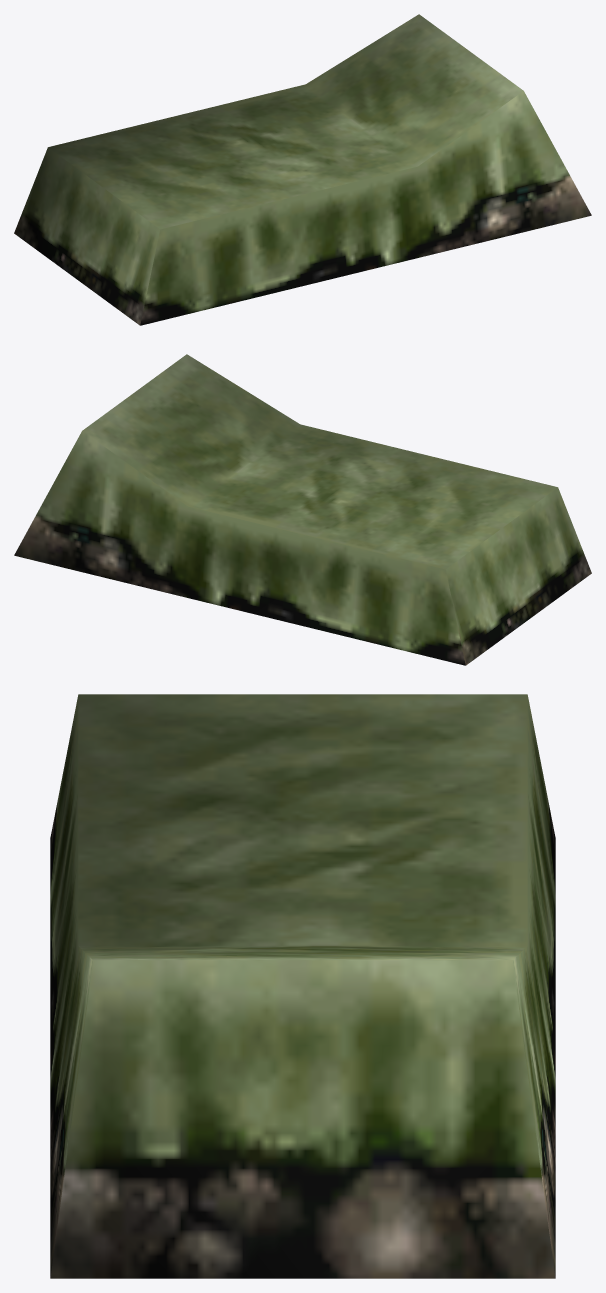
The model's file is stst78.dae.
3 renders of one model, top to bottom at view 1: azimuth 30°, elevation 25°; view 2: azimuth 150°, elevation 25°; view 3: azimuth 270°, elevation 25°, orthographic. The views are drawn at different scales.
Visible parts, largest first — view 1: kbed2; view 2: kbed2; view 3: kbed2.
Boxes of the visible parts, x1,y1,x2,y2 form: kbed2: (14,14,591,325); kbed2: (14,354,591,665); kbed2: (50,694,555,1278).
Size of the model in its own units: 1.84 by 0.8929 by 0.5108.
1 material, 1 textured.
